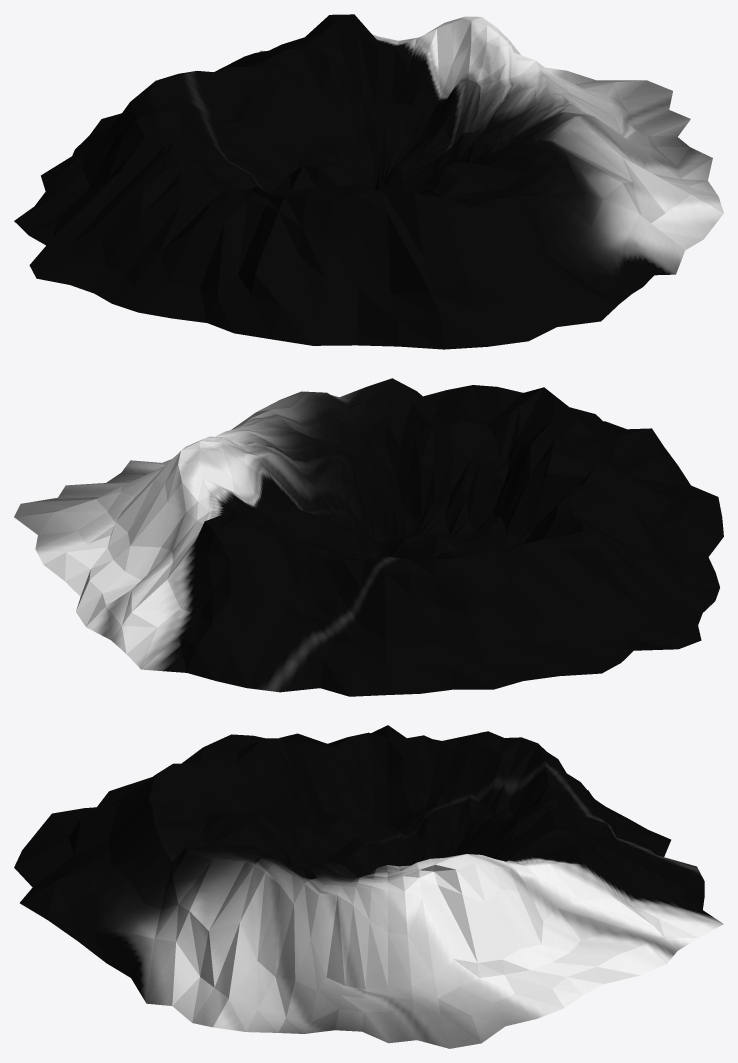
The model's file is 0185_Water2.glb.
3 renders of one model, top to bottom at view 1: azimuth 30°, elevation 25°; view 2: azimuth 150°, elevation 25°; view 3: azimuth 270°, elevation 25°, orthographic. The views are drawn at different scales.
Bounding box in the file's own units: 2.2 × 0.4384 × 2.13.
1 material, 1 textured.
